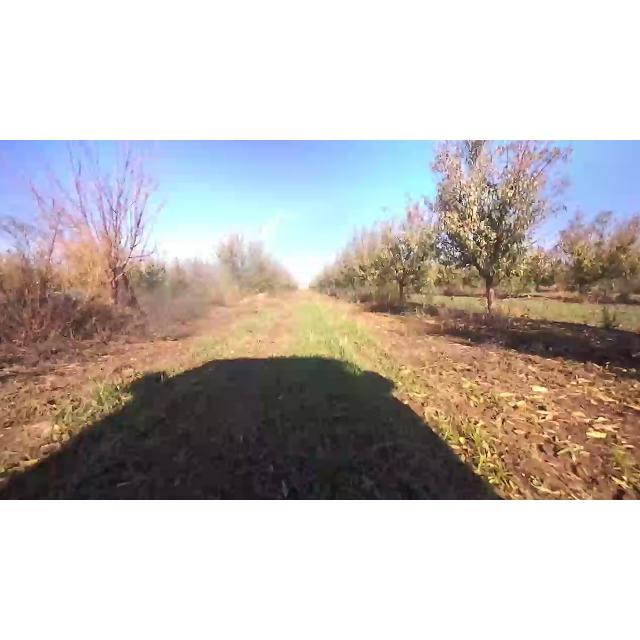direk: (411, 142, 554, 322), (24, 143, 166, 313), (547, 205, 637, 303), (361, 218, 444, 314)
